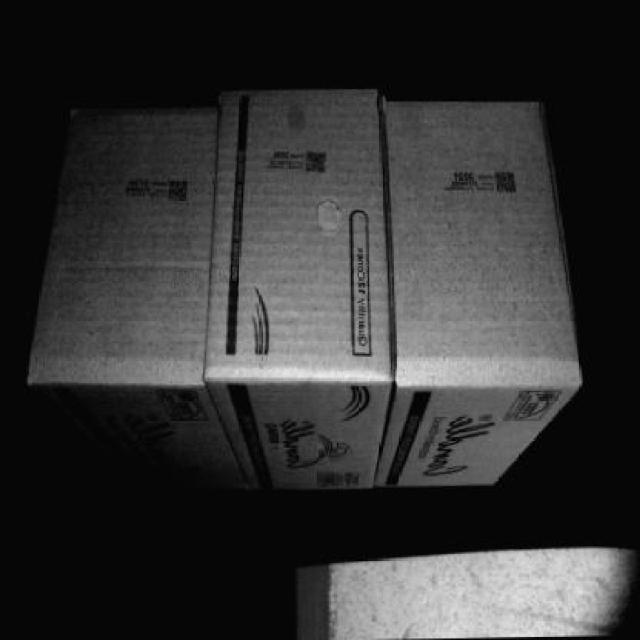cardboxes: (391, 89, 580, 389), (202, 85, 384, 381), (26, 113, 206, 387)
